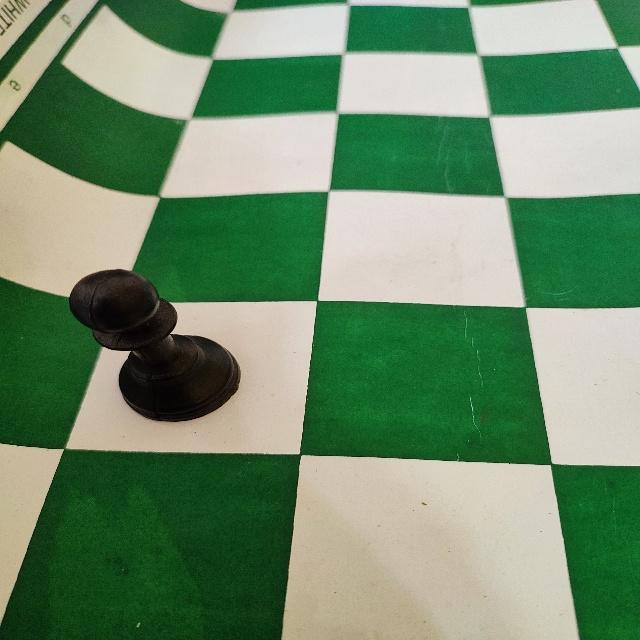Pawn: (66, 267, 252, 426)
